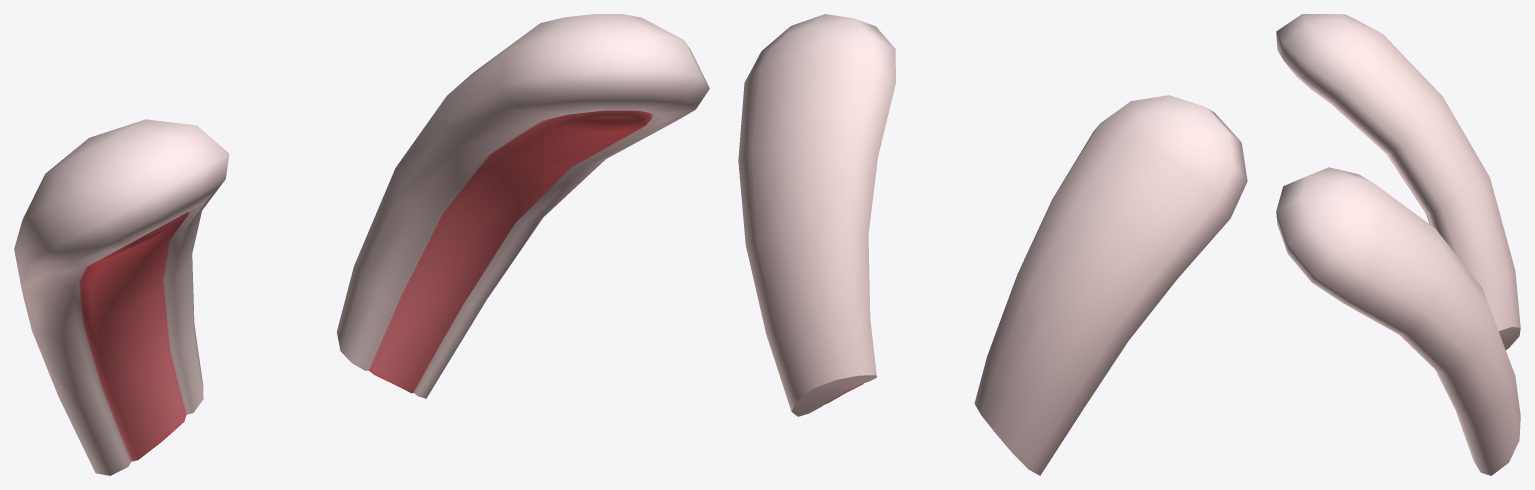
The model's file is Usa_mimi.glb.
3 views of the same model, side by side, from view 1: azimuth 30°, elevation 25°; view 2: azimuth 150°, elevation 25°; view 3: azimuth 270°, elevation 25° (orthographic). The views are drawn at different scales.
Parts seen in each view (by area): view 1: AnimalFace_Rabbit; view 2: AnimalFace_Rabbit; view 3: AnimalFace_Rabbit.
Boxes of the visible parts, x1,y1,x2,y2 form: AnimalFace_Rabbit: (14, 14, 709, 475); AnimalFace_Rabbit: (738, 14, 1247, 475); AnimalFace_Rabbit: (1276, 14, 1520, 475).
Size of the model in its own units: 0.9755 by 0.6224 by 0.4339.
1 material, 1 textured.
